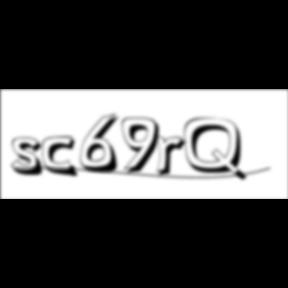6: (80, 112, 126, 176)
9: (122, 117, 166, 177)
Q: (184, 117, 250, 184)
c: (43, 136, 83, 180)
r: (155, 134, 193, 180)
s: (12, 137, 50, 179)
